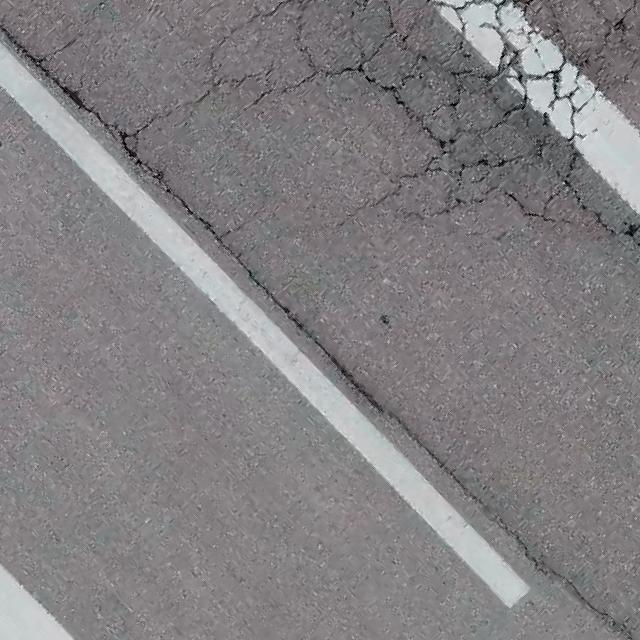GRIETA: (0, 26, 630, 639), (133, 89, 213, 136)
PIEL DE COCODRILO: (205, 0, 639, 252)
